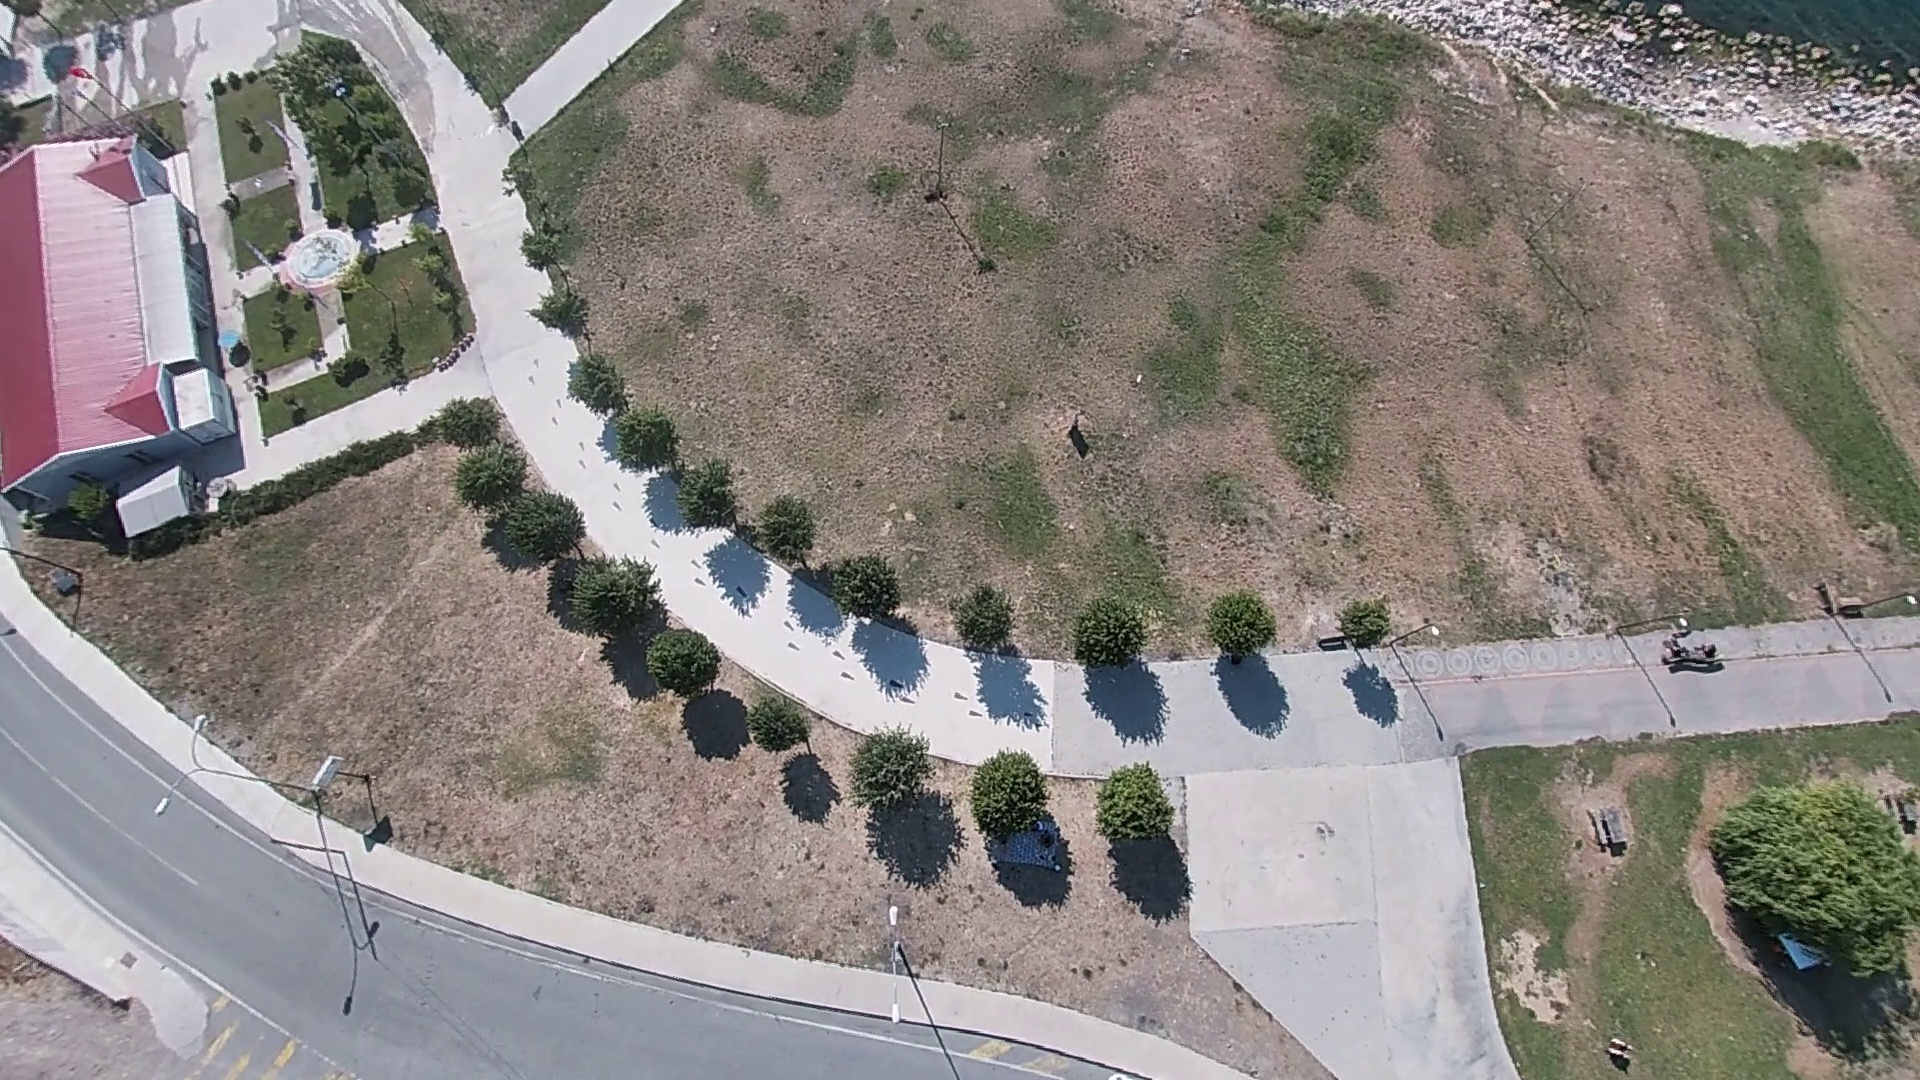insan: (47, 568, 83, 610), (1065, 421, 1089, 462)
